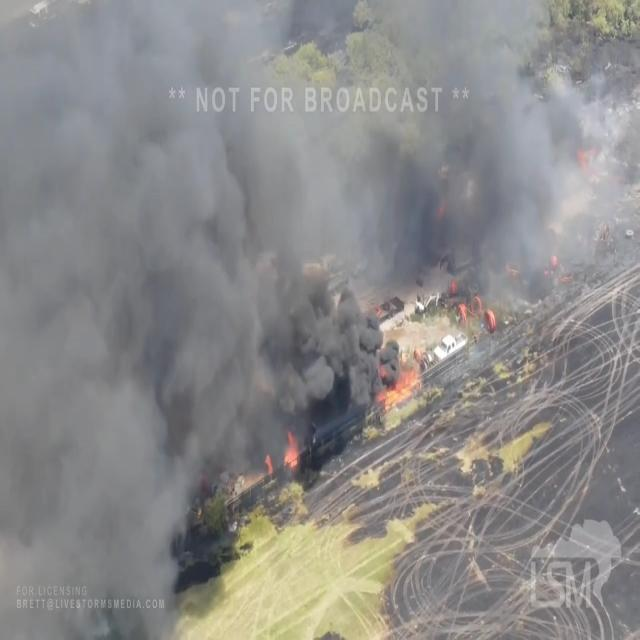Fire: (381, 380, 418, 407)
Smoke: (21, 2, 260, 591), (273, 298, 369, 407)
